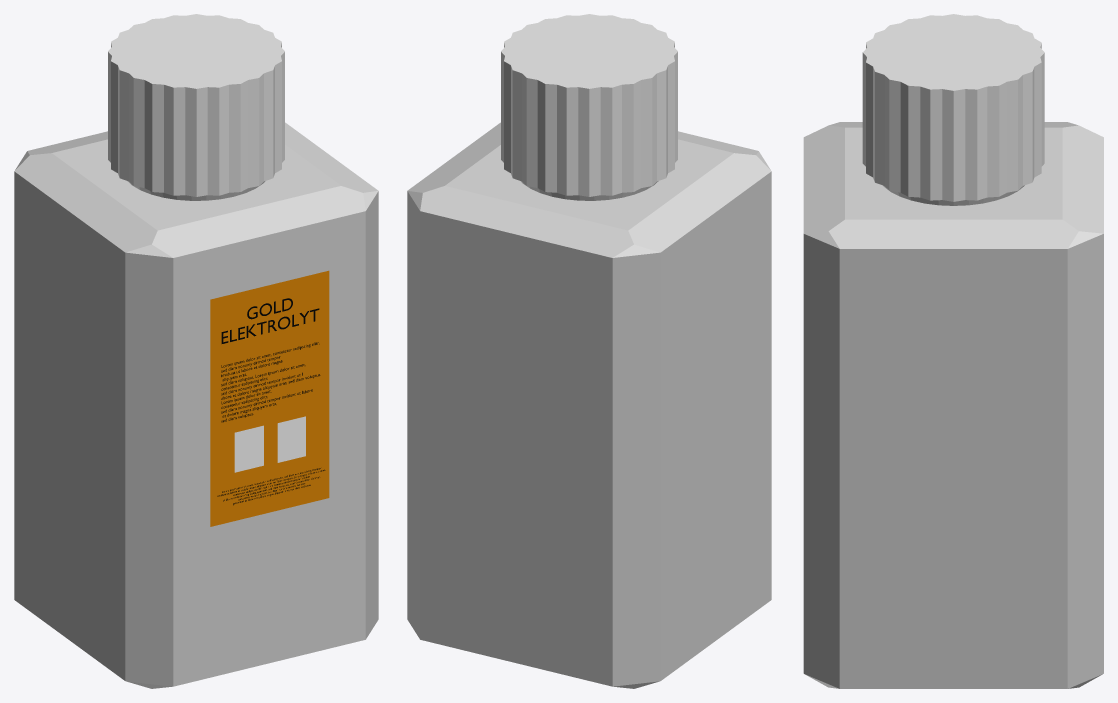
File: GoldelektrolytFBX.fbx
3 renders of one model, left to right at view 1: azimuth 30°, elevation 25°; view 2: azimuth 150°, elevation 25°; view 3: azimuth 270°, elevation 25°, orthographic. The views are drawn at different scales.
Visible parts, largest first — view 1: Cube, Cylinder.001, Plane, Text.001, Gesundheit, Schädigung, Text, Text.002, Cylinder; view 2: Cube, Cylinder.001, Cylinder; view 3: Cube, Cylinder.001, Cylinder.
Boxes of the visible parts, box(x1,y1,x2,y2) form: Cube: box(14, 122, 378, 688); Cylinder.001: box(108, 14, 284, 196); Plane: box(210, 270, 329, 526); Text.001: box(221, 342, 320, 422); Gesundheit: box(234, 425, 263, 472); Schädigung: box(277, 416, 305, 462); Text: box(221, 298, 319, 343); Text.002: box(217, 468, 325, 505); Cylinder: box(127, 181, 265, 200); Cube: box(407, 122, 771, 688); Cylinder.001: box(501, 14, 677, 196); Cylinder: box(520, 181, 658, 200); Cube: box(803, 122, 1103, 688); Cylinder.001: box(862, 14, 1044, 201); Cylinder: box(883, 185, 1024, 205).
Bounding box in the file's own units: 233 × 502 × 236.
